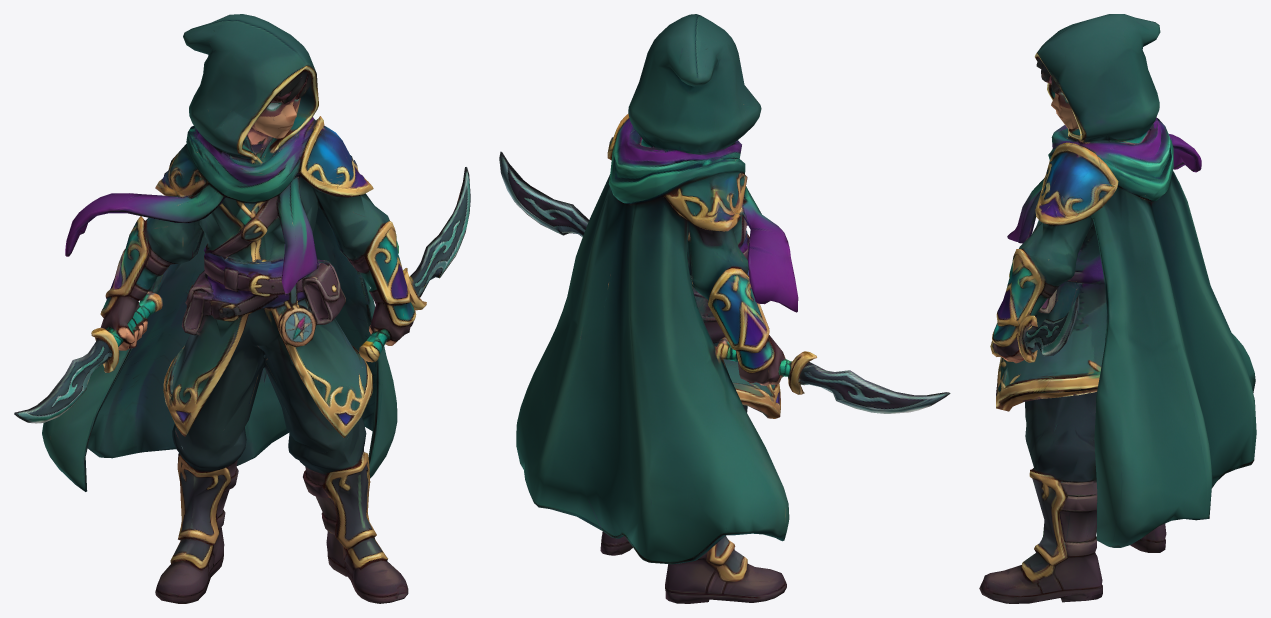
Rendered from sorren.glb.
3 views of the same model, side by side, from view 1: azimuth 30°, elevation 25°; view 2: azimuth 150°, elevation 25°; view 3: azimuth 270°, elevation 25° (orthographic). The views are drawn at different scales.
Visible parts, largest first — view 1: Mesh_0; view 2: Mesh_0; view 3: Mesh_0.
Part boxes in pixels (left/top/right/bottom): Mesh_0: left=14, top=14, right=470, bottom=603; Mesh_0: left=499, top=14, right=950, bottom=603; Mesh_0: left=979, top=14, right=1256, bottom=603.
Bounding box in the file's own units: 1.62 × 1.9 × 0.8846.
1 material, 1 textured.
